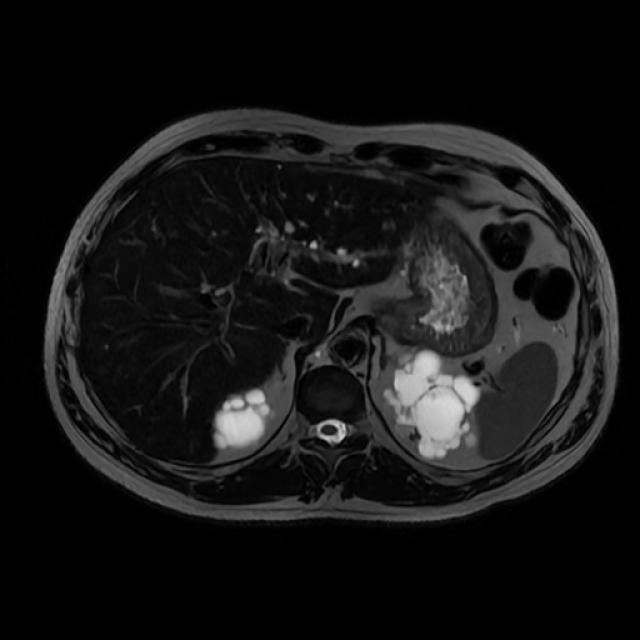sag: (214, 385, 271, 450)
sol: (386, 351, 482, 458)
